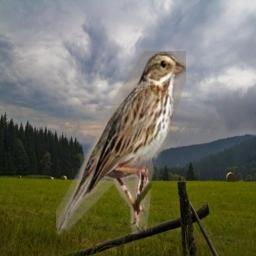Sparrow: (56, 51, 186, 234)
